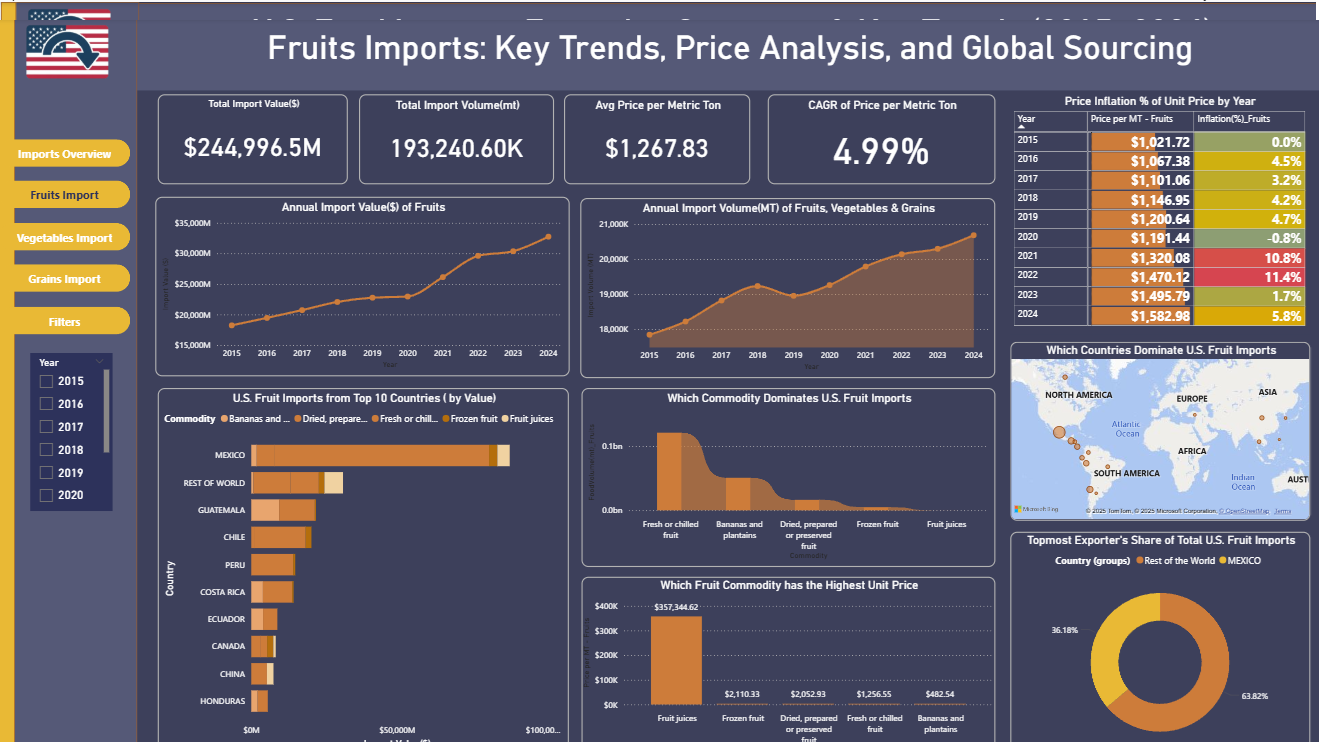

This screenshot's page, from the dashboard's own definition file:
{"tool":"powerbi","page":{"name":"Fruits","canvas":[1920,1080],"ordinal":1},"visuals":[{"type":"actionButton","title":"Overview","box":[0,175.5,190,40],"z":0,"group":"g1"},{"type":"actionButton","title":"Fruits","box":[0,236,190,40],"z":1000,"group":"g1"},{"type":"lineChart","title":"Annual Import Value($) of Fruits","fields":{"Category":["US_FoodImports_Summary.Year"],"Y":["US_FoodImports_Summary.FoodValue($) - FRUITS ONLY"]},"box":[226.8,259.5,600,260],"z":1000},{"type":"actionButton","title":"Vegetables","box":[0,296.5,190,40],"z":2000,"group":"g1"},{"type":"barChart","title":"U.S. Fruit Imports from Top 10 Countries ( by Value)","fields":{"Category":["US_FoodImports_Country.Country"],"Series":["US_FoodImports_Country.Commodity"],"Y":["Sum(US_FoodImports_Country.FoodValue($))"]},"box":[230.5,535.2,594.9,533.1],"z":2000},{"type":"actionButton","title":"Grians","box":[0,357,190,40],"z":3000,"group":"g1"},{"type":"ribbonChart","title":"Which Commodity  Dominates U.S. Fruit Imports","fields":{"Category":["US_FoodImports_Summary.Commodity"],"Y":["US_FoodImports_Summary.FoodVolume(mt)_Fruits"]},"box":[843.9,535.2,599,259.3],"z":3000},{"type":"card","title":"Total Import Value($)","fields":{"Values":["US_FoodImports_Summary.FoodValue($)_Fruits"]},"box":[229.8,110.9,275.1,130.3],"z":4000},{"type":"card","title":"Total Import Volume(mt)","fields":{"Values":["US_FoodImports_Summary.FoodVolume(mt)_Fruits"]},"box":[521.1,110.9,282.3,130.3],"z":5000},{"type":"card","title":"Avg Price per Metric Ton","fields":{"Values":["US_FoodImports_Summary.Price per MT - Fruits"]},"box":[817.9,110.9,269.6,130.3],"z":6000},{"type":"card","title":"CAGR of  Price per Metric Ton","fields":{"Values":["US_FoodImports_Summary.CAGR _Fruits"]},"box":[1113.3,110.5,329.4,130.3],"z":7000},{"type":"map","title":"Which Countries Dominate U.S. Fruit Imports","fields":{"Category":["US_FoodImports_Country.Country"],"Size":["Sum(US_FoodImports_Country.FoodValue($))"]},"box":[1463.5,469.3,434.3,259.3],"z":8000},{"type":"areaChart","title":"Annual Import Volume(MT) of Fruits, Vegetables & Grains","fields":{"Category":["US_FoodImports_Summary.Year"],"Y":["US_FoodImports_Summary.FoodVolume(mt)_Fruits"]},"box":[842.3,259.7,600.8,260.6],"z":9000},{"type":"pivotTable","title":"Price Inflation % of Unit Price by Year ","fields":{"Rows":["US_FoodImports_Summary.Year"],"Values":["US_FoodImports_Summary.Price per MT - Fruits Only","US_FoodImports_Summary.Inflation(%)_Fruits"]},"box":[1464,110.4,434.3,347.5],"z":10000},{"type":"clusteredColumnChart","title":"Which Fruit Commodity has the Highest Unit Price","fields":{"Category":["US_FoodImports_Summary.Commodity"],"Y":["US_FoodImports_Summary.Price per MT - Fruits"]},"box":[843.9,808.9,599,259.3],"z":11000},{"type":"donutChart","title":"Topmost Exporter''s  Share of Total U.S. Fruit Imports","fields":{"Y":["Sum(US_FoodImports_Country.FoodValue($))"],"Category":["US_FoodImports_Country.Country (groups)"]},"box":[1463.5,743.1,434.3,325.2],"z":12000},{"type":"shape","box":[190,1.7,1730,95],"z":13000},{"type":"textbox","title":"Fruits Imports: Key Trends, Price Analysis, and Global Sourcing ","box":[196.7,15,1723,90],"z":13500},{"type":"shape","box":[0,0,200,1080.4],"z":14000},{"type":"shape","box":[0,0,23,1080],"z":15000},{"type":"actionButton","title":"Grians","box":[0,418,190,40],"z":16000},{"type":"slicer","fields":{"Values":["DimYear.Year"]},"box":[45.3,485.8,119.4,228.5],"z":17000},{"type":"group","id":"g1","title":"Pages","box":[0,175.5,190,221.5],"z":18000},{"type":"image","box":[35,1.7,130,95],"z":19000}]}

Visuals, with their boxes on the page's 1920x1080 design canvas (x1, y1, x2, y2). These are canvas units, not pixel positions in the 1319x742 screenshot, which may show the page scaled, cropped or inside an application window:
"Overview" actionButton: (x1=0, y1=176, x2=190, y2=216)
"Fruits" actionButton: (x1=0, y1=236, x2=190, y2=276)
"Annual Import Value($) of Fruits" lineChart: (x1=227, y1=260, x2=827, y2=520)
"Vegetables" actionButton: (x1=0, y1=296, x2=190, y2=336)
"U.S. Fruit Imports from Top 10 Countries ( by Value)" barChart: (x1=230, y1=535, x2=825, y2=1068)
"Grians" actionButton: (x1=0, y1=357, x2=190, y2=397)
"Which Commodity  Dominates U.S. Fruit Imports" ribbonChart: (x1=844, y1=535, x2=1443, y2=794)
"Total Import Value($)" card: (x1=230, y1=111, x2=505, y2=241)
"Total Import Volume(mt)" card: (x1=521, y1=111, x2=803, y2=241)
"Avg Price per Metric Ton" card: (x1=818, y1=111, x2=1088, y2=241)
"CAGR of  Price per Metric Ton" card: (x1=1113, y1=110, x2=1443, y2=241)
"Which Countries Dominate U.S. Fruit Imports" map: (x1=1464, y1=469, x2=1898, y2=729)
"Annual Import Volume(MT) of Fruits, Vegetables & Grains" areaChart: (x1=842, y1=260, x2=1443, y2=520)
"Price Inflation % of Unit Price by Year " pivotTable: (x1=1464, y1=110, x2=1898, y2=458)
"Which Fruit Commodity has the Highest Unit Price" clusteredColumnChart: (x1=844, y1=809, x2=1443, y2=1068)
"Topmost Exporter''s  Share of Total U.S. Fruit Imports" donutChart: (x1=1464, y1=743, x2=1898, y2=1068)
shape: (x1=190, y1=2, x2=1920, y2=97)
"Fruits Imports: Key Trends, Price Analysis, and Global Sourcing " textbox: (x1=197, y1=15, x2=1920, y2=105)
shape: (x1=0, y1=0, x2=200, y2=1080)
shape: (x1=0, y1=0, x2=23, y2=1080)
"Grians" actionButton: (x1=0, y1=418, x2=190, y2=458)
slicer - DimYear.Year: (x1=45, y1=486, x2=165, y2=714)
"Pages" group: (x1=0, y1=176, x2=190, y2=397)
image: (x1=35, y1=2, x2=165, y2=97)
